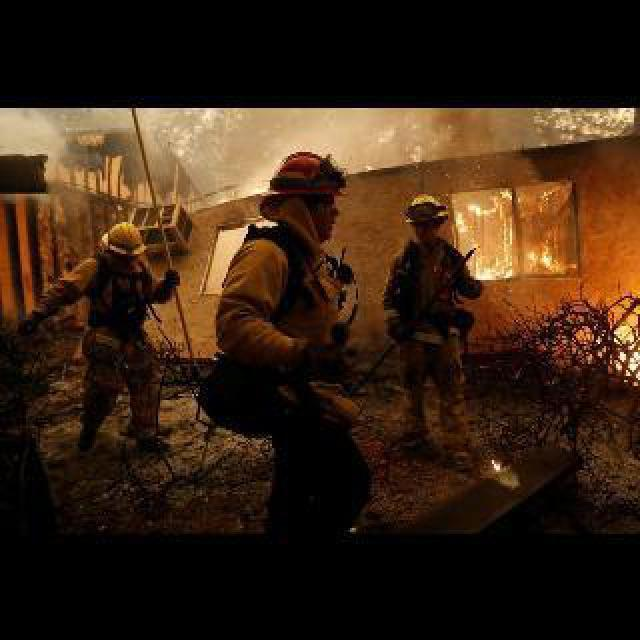fire: (456, 180, 576, 278), (614, 320, 638, 384), (486, 454, 508, 474)
smoke: (378, 106, 548, 188)
